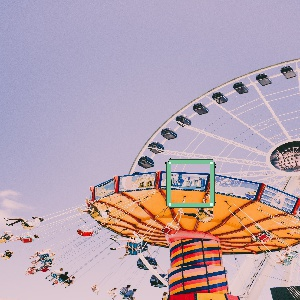square: (165, 157, 216, 208)
